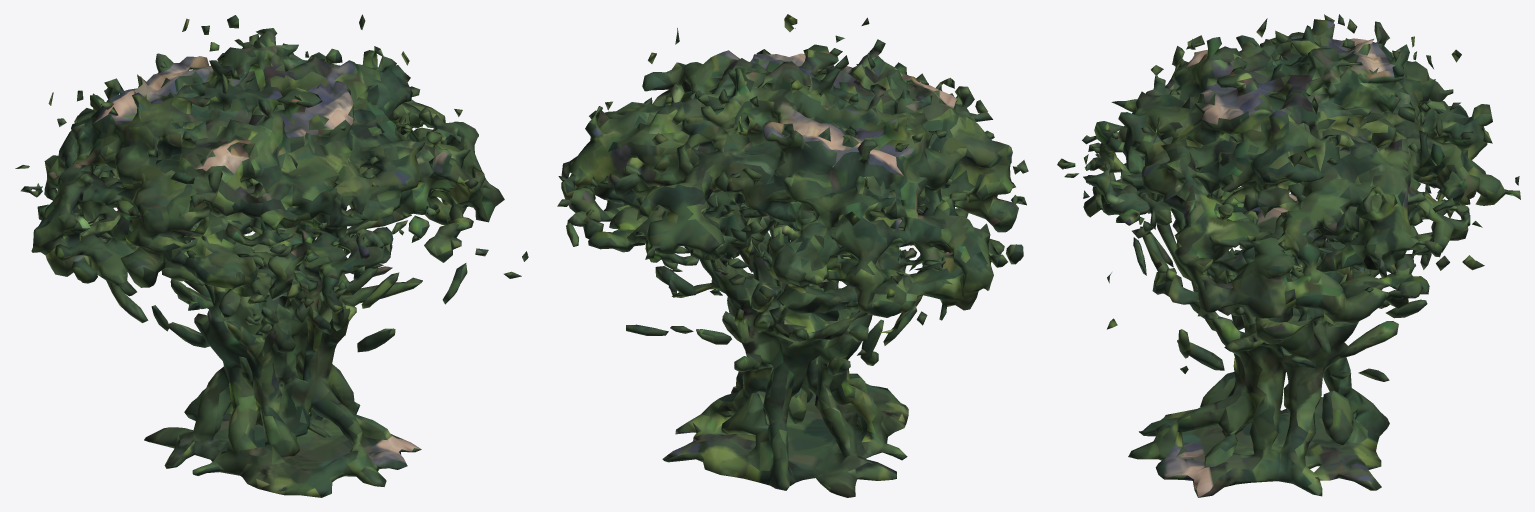
The model's file is AI_JungleTree.fbx.
The picture shows the model from 3 angles, left to right: view 1: azimuth 30°, elevation 25°; view 2: azimuth 150°, elevation 25°; view 3: azimuth 270°, elevation 25°; orthographic projection. The views are drawn at different scales.
Visible parts, largest first — view 1: Mesh_0; view 2: Mesh_0; view 3: Mesh_0.
Boxes of the visible parts, <box> form: Mesh_0: <box>15,14,528,497</box>; Mesh_0: <box>557,14,1028,497</box>; Mesh_0: <box>1057,14,1520,497</box>.
Bounding box in the file's own units: 177 × 160 × 166.
